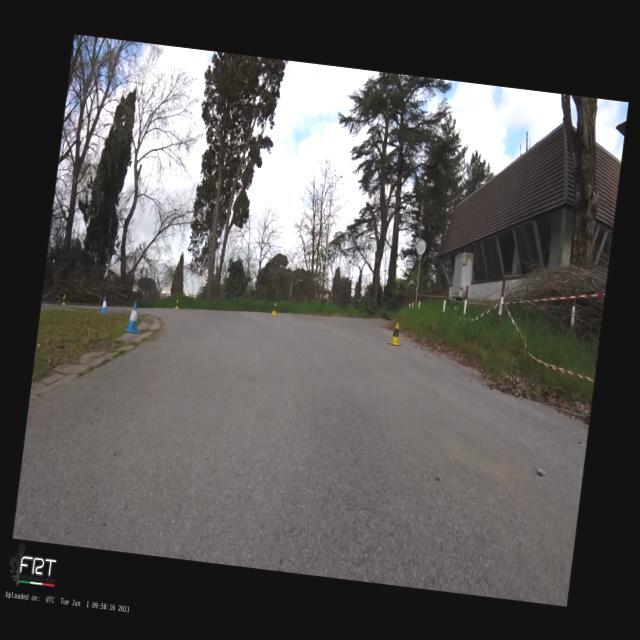blue_cone: (124, 300, 142, 334), (100, 295, 109, 313)
yellow_cone: (387, 320, 403, 346), (269, 302, 279, 316), (61, 294, 66, 306), (174, 298, 179, 308)
